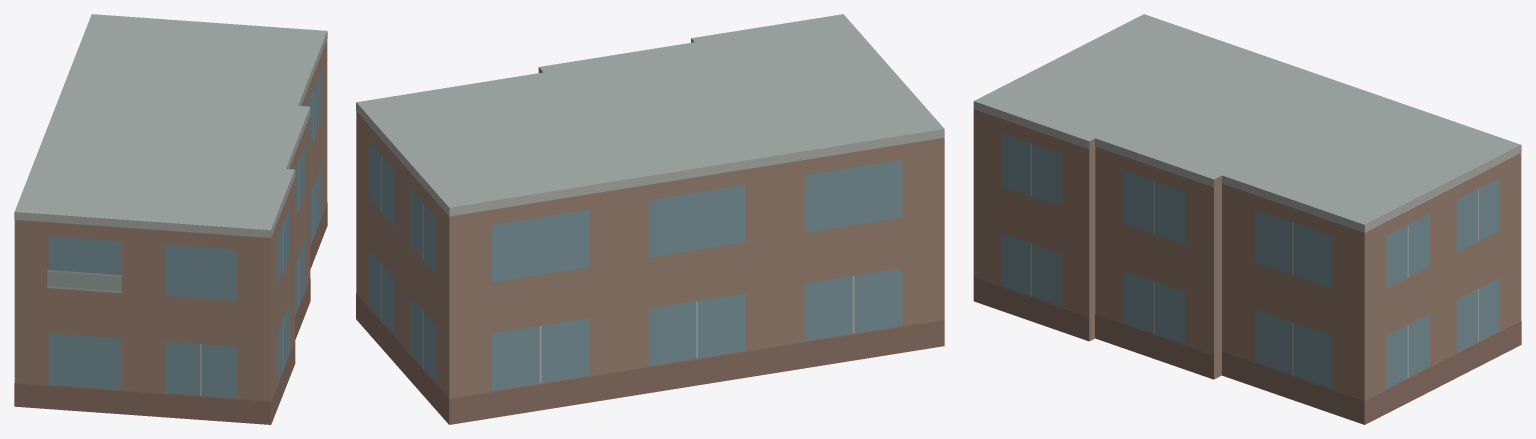
The model's file is survey-upis-32827366.glb.
The picture shows the model from 3 angles, left to right: view 1: azimuth 30°, elevation 25°; view 2: azimuth 150°, elevation 25°; view 3: azimuth 270°, elevation 25°; orthographic projection. The views are drawn at different scales.
Visible parts, largest first — view 1: survey-upis-32827366.tmp; view 2: survey-upis-32827366.tmp; view 3: survey-upis-32827366.tmp.
Boxes of the visible parts, left/top/right/bottom form: survey-upis-32827366.tmp: left=14, top=14, right=327, bottom=424; survey-upis-32827366.tmp: left=356, top=14, right=944, bottom=424; survey-upis-32827366.tmp: left=973, top=14, right=1521, bottom=424.
Bounding box in the file's own units: 13.8 × 6.1 × 15.15.
